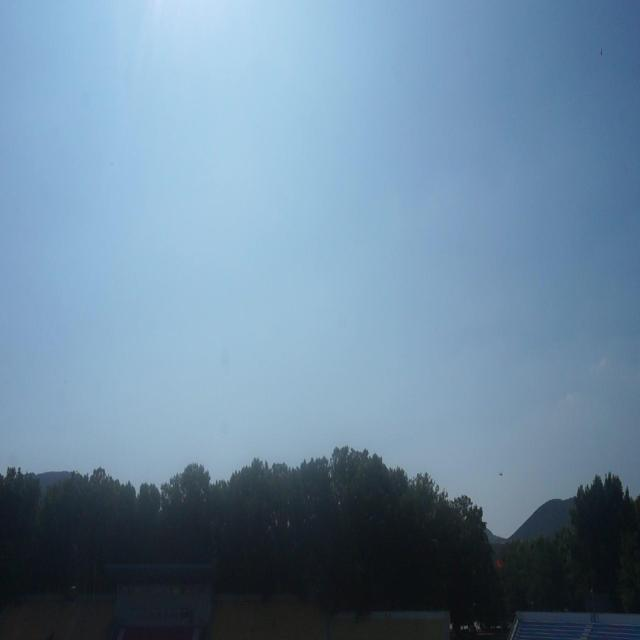drone: (498, 466, 505, 482)
